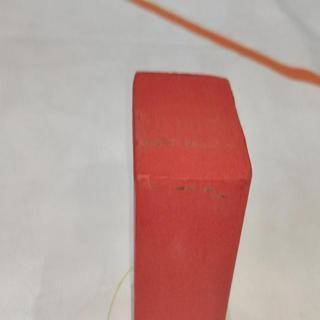redbox: (132, 71, 253, 320)
